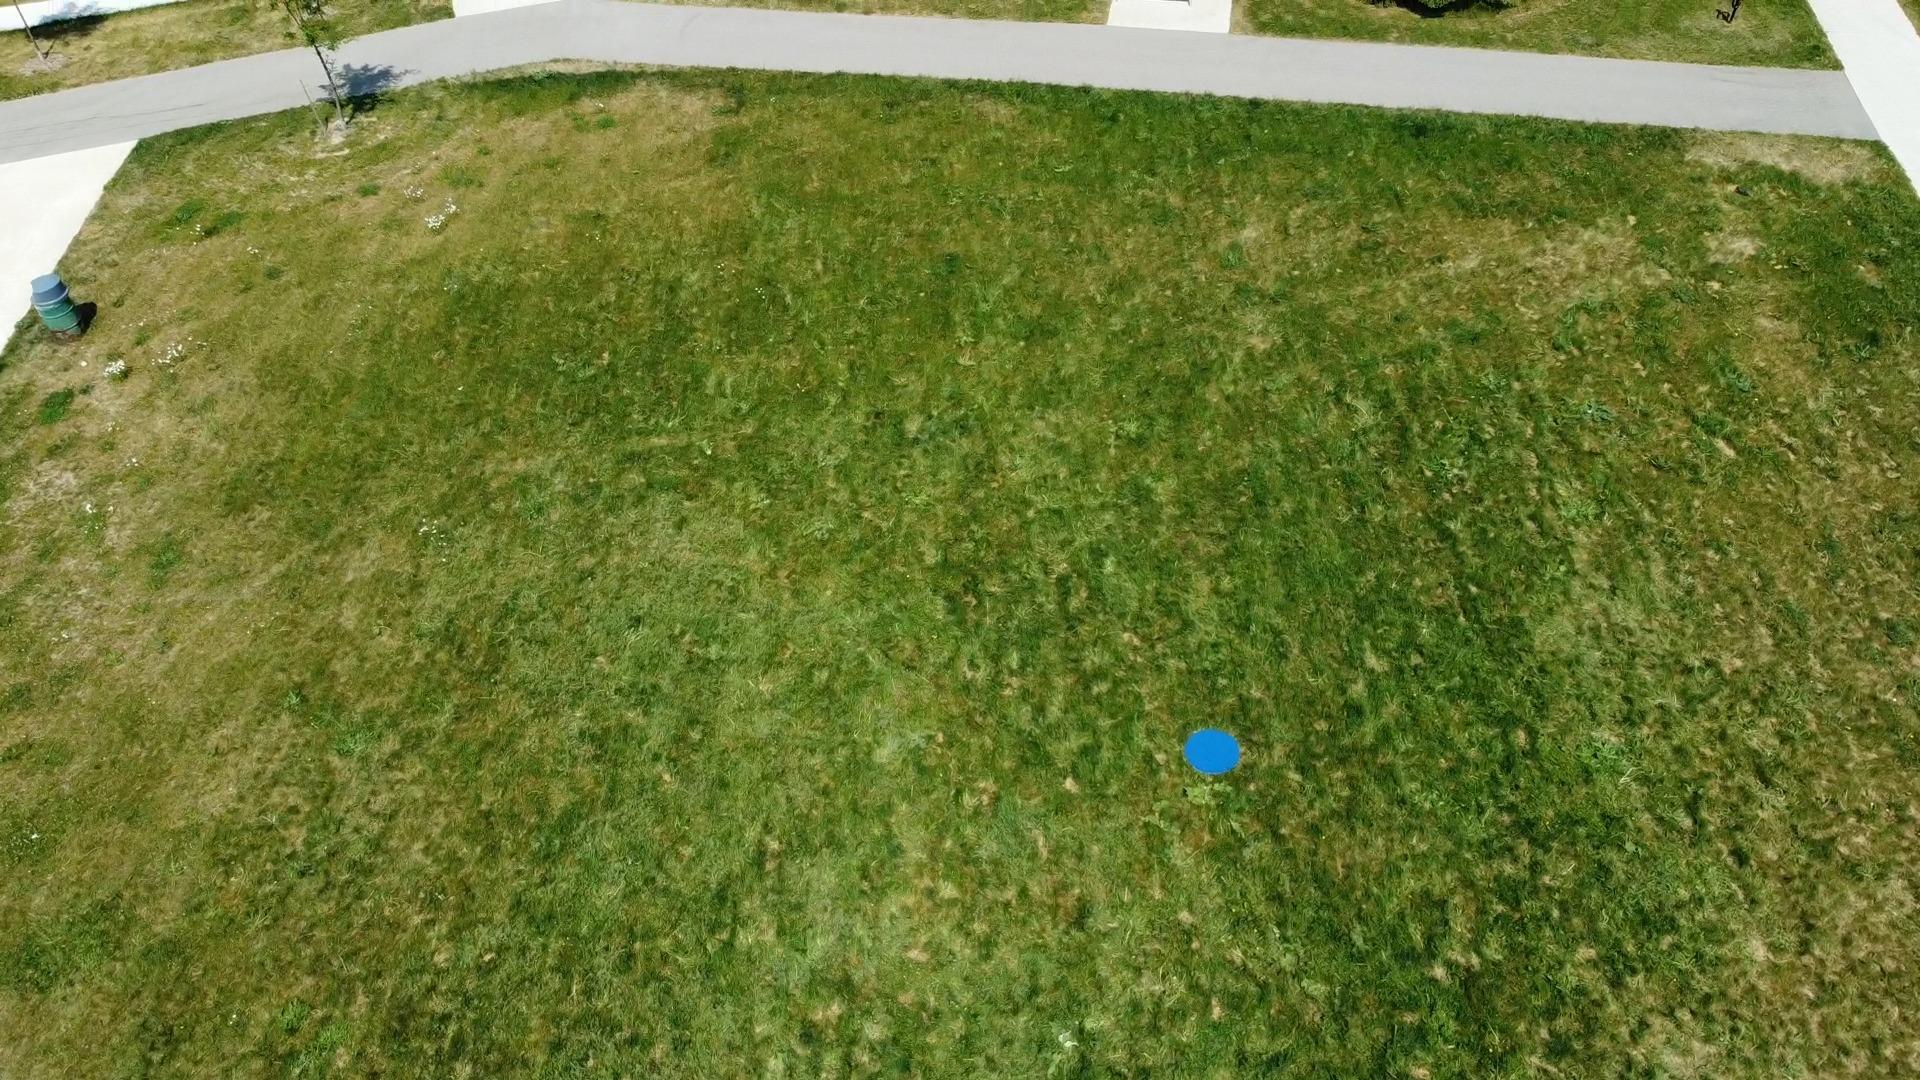Blue: (1183, 725, 1241, 777)
